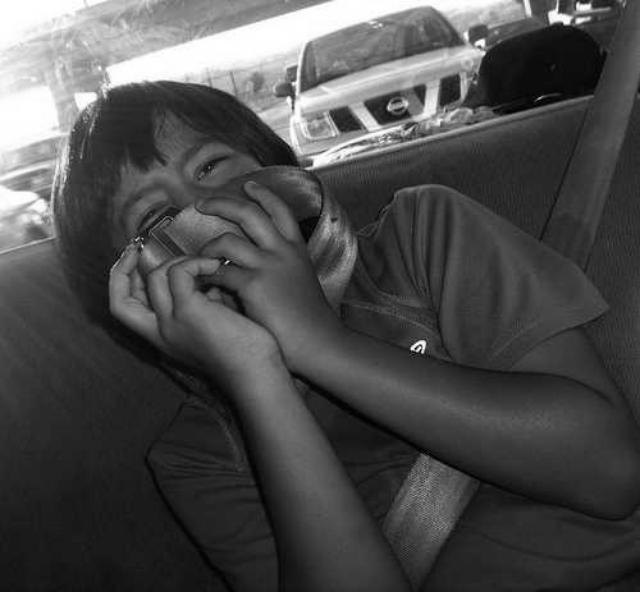SafeDriving: (190, 147, 233, 181)
Seatbelt: (374, 0, 640, 592)
